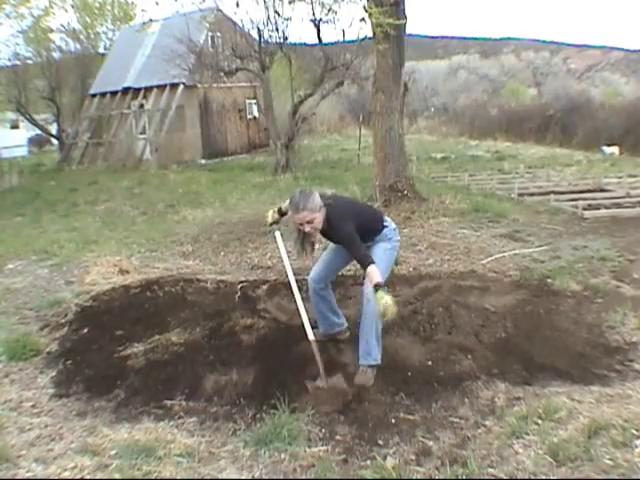person: (265, 188, 401, 386)
